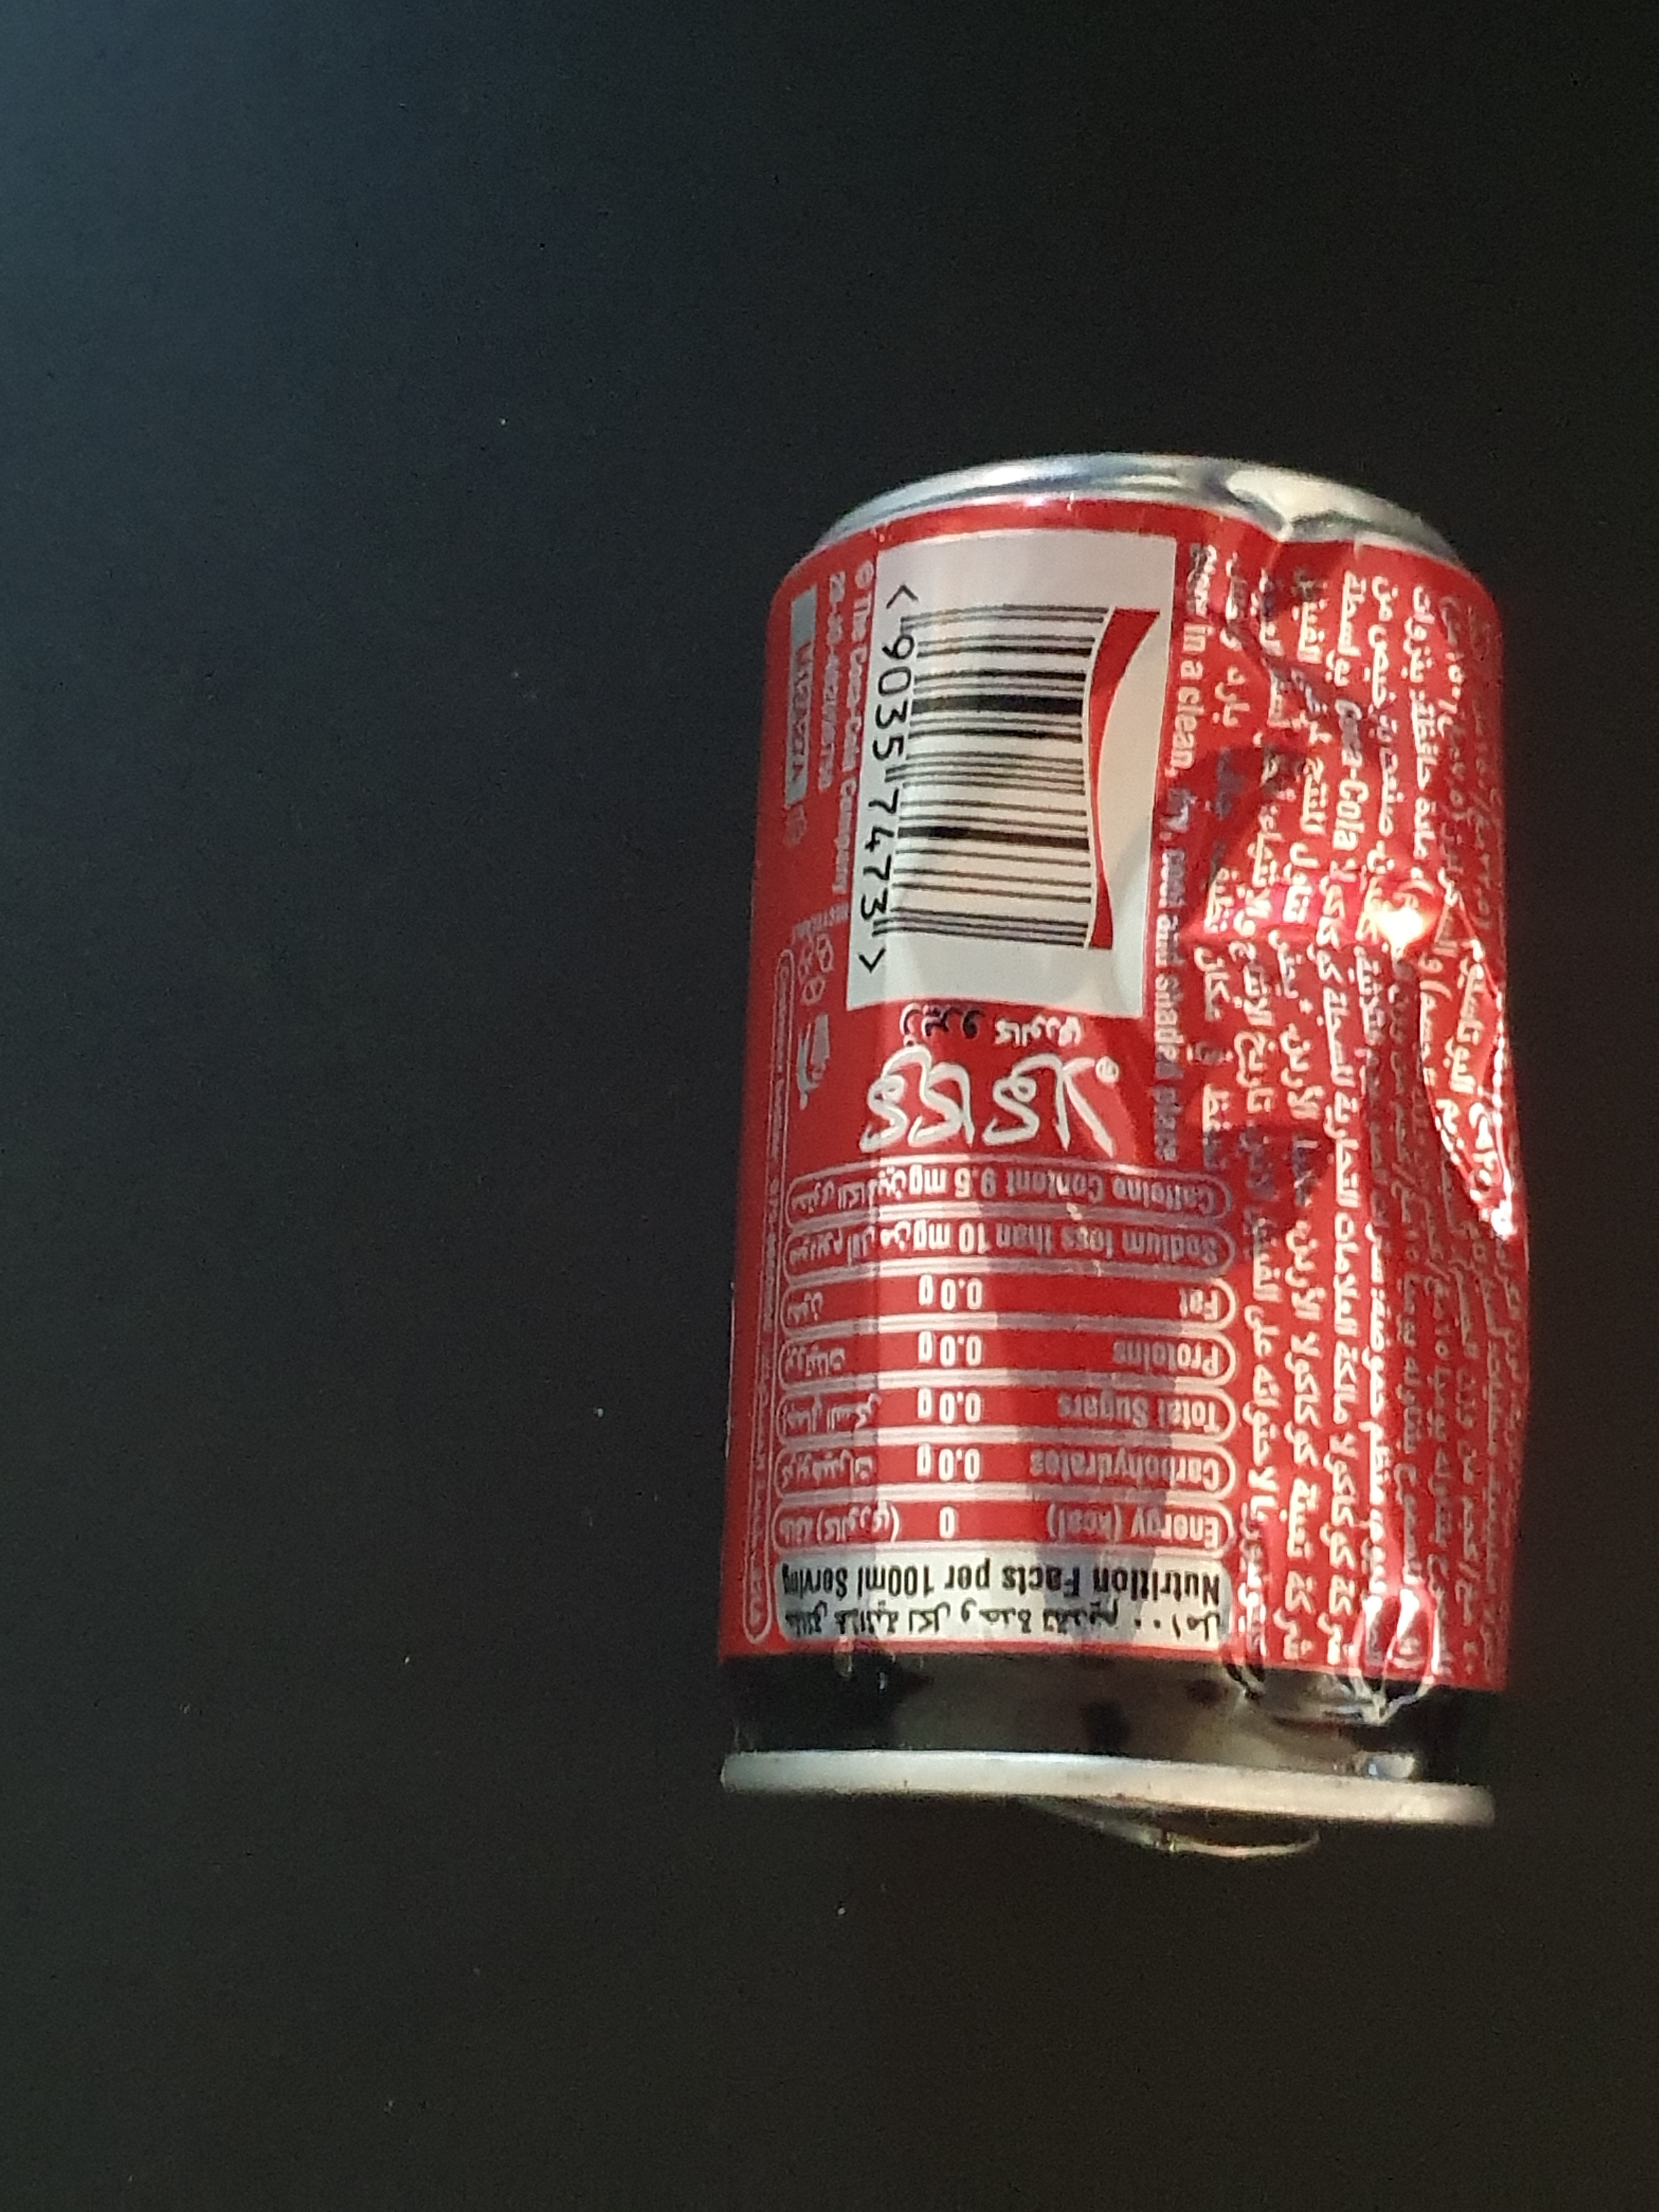metal: (667, 378, 1575, 1918)
